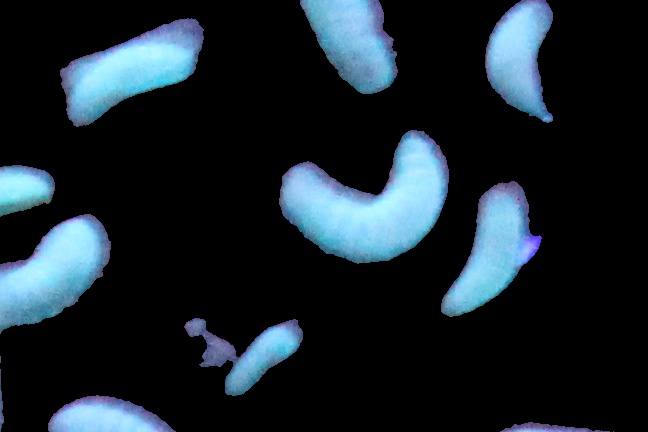larvae: (282, 141, 444, 267), (1, 218, 109, 323), (440, 186, 521, 317), (293, 1, 401, 95), (68, 43, 192, 123), (487, 2, 554, 120), (226, 327, 299, 394), (39, 399, 184, 432), (1, 170, 52, 227)
